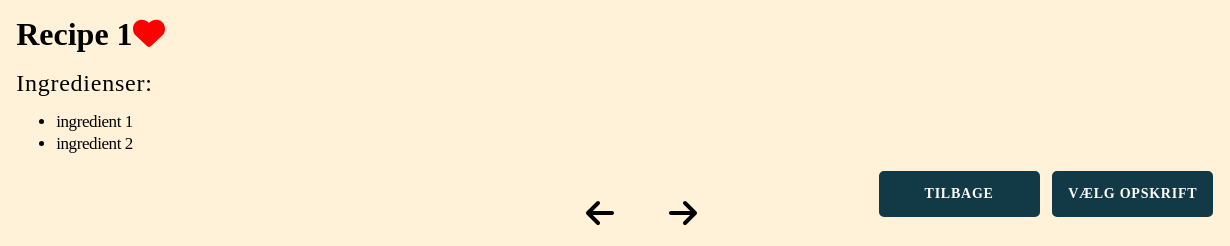
Test: Marking one recipe as favorite, changes state of the heart icon for that recipe, but remaining recipes are not marked as favorite
Check: the heading "Recipe 1" is shown, box [16,16,165,52]
// move to second recipe
Click the picture with test id "selectArrowRight" at (683, 213), box [669,197,697,229]
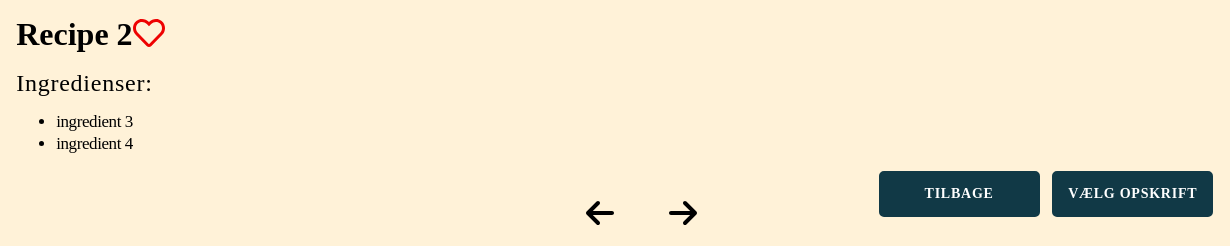
Check: the heading "Recipe 2" is shown, box [16,16,165,52]
// move to third recipe
Click the picture with test id "selectArrowRight" at (683, 213), box [669,197,697,229]
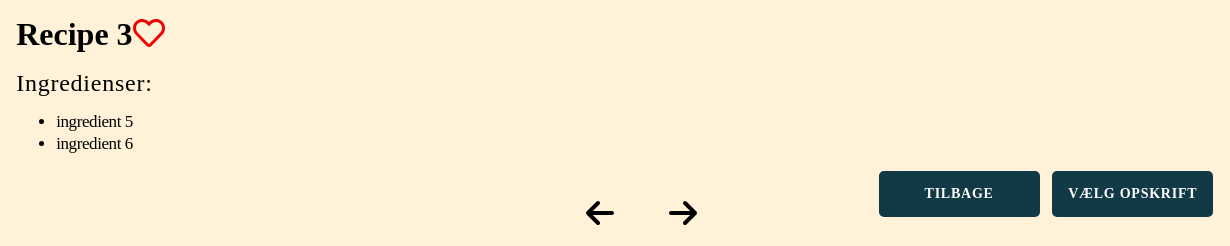
Check: the heading "Recipe 3" is shown, box [16,16,165,52]
